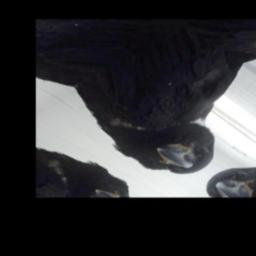Crow: (45, 20, 256, 189)
